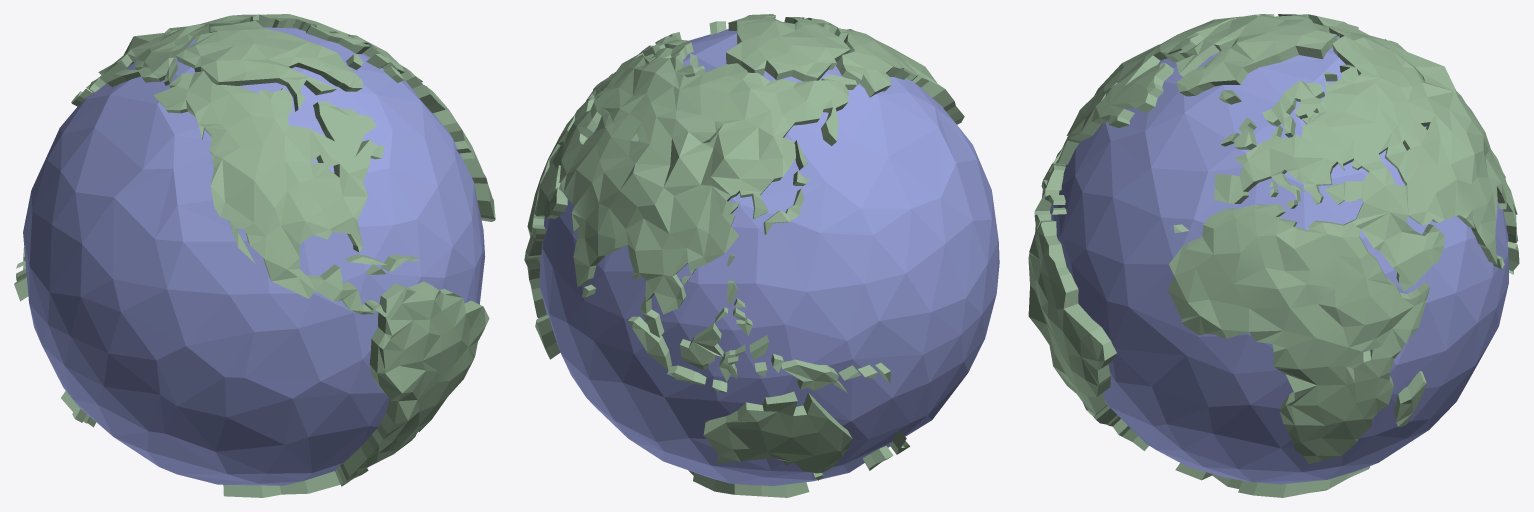
Rendered from LowPolyEarth.FBX.
The picture shows the model from 3 angles, left to right: view 1: azimuth 30°, elevation 25°; view 2: azimuth 150°, elevation 25°; view 3: azimuth 270°, elevation 25°; orthographic projection.
Visible parts, largest first — view 1: ocean, world; view 2: ocean, world; view 3: world, ocean.
Part boxes in pixels (left/top/right/bottom): ocean: left=23, top=27, right=485, bottom=485; world: left=14, top=14, right=495, bottom=497; ocean: left=539, top=29, right=999, bottom=485; world: left=524, top=14, right=964, bottom=497; world: left=1028, top=14, right=1519, bottom=497; ocean: left=1050, top=36, right=1508, bottom=484.
Size of the model in its own units: 112 by 114 by 115.
